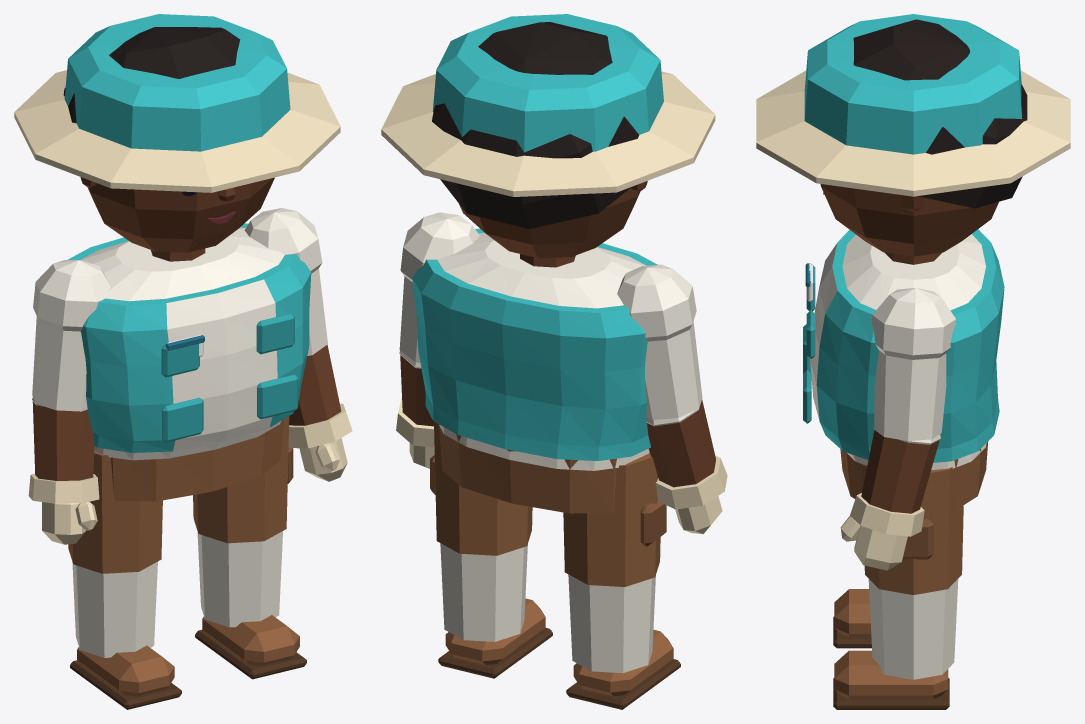
The model's file is auf_pel.glb.
3 views of the same model, side by side, from view 1: azimuth 30°, elevation 25°; view 2: azimuth 150°, elevation 25°; view 3: azimuth 270°, elevation 25° (orthographic). The views are drawn at different scales.
Visible parts, largest first — view 1: kopfbedeckung, weste, arm_r, bein_r, bein_l, torso, kopf, arm_l, becken, taschen, haare, schuh_r (+3 smaller); view 2: kopfbedeckung, weste, bein_r, arm_r, bein_l, haare, torso, becken, arm_l, kopf, schuh_l, schuh_r (+1 smaller); view 3: kopfbedeckung, weste, arm_l, bein_l, haare, kopf, torso, schuh_l, becken, schuh_r, hand_l, taschen.
Part boxes in pixels (box(x1,y1,x2,y2)): kopfbedeckung: box(14, 14, 340, 192); weste: box(67, 223, 311, 452); arm_r: box(28, 260, 110, 503); bein_r: box(68, 450, 162, 657); bein_l: box(193, 416, 293, 627); torso: box(80, 227, 284, 460); kopf: box(80, 177, 274, 252); arm_l: box(244, 208, 352, 448); becken: box(111, 419, 283, 501); taschen: box(161, 313, 298, 442); haare: box(63, 27, 240, 123); schuh_r: box(70, 645, 181, 709); kopfbedeckung: box(381, 14, 715, 196); weste: box(412, 228, 657, 460); bein_r: box(563, 452, 666, 673); arm_r: box(617, 264, 727, 509); bein_l: box(430, 421, 532, 641); haare: box(432, 22, 639, 228); torso: box(437, 232, 649, 470); becken: box(439, 424, 616, 513); arm_l: box(396, 212, 479, 447); kopf: box(459, 181, 647, 258); schuh_l: box(438, 598, 552, 678); schuh_r: box(566, 629, 680, 709); kopfbedeckung: box(756, 14, 1070, 196); weste: box(810, 229, 1004, 462); arm_l: box(850, 288, 955, 536); bein_l: box(864, 467, 963, 679); haare: box(853, 19, 1027, 208); kopf: box(820, 184, 998, 256); torso: box(842, 234, 986, 469); schuh_l: box(833, 650, 949, 709); becken: box(840, 441, 988, 510); schuh_r: box(833, 589, 871, 648); hand_l: box(840, 516, 907, 570); taschen: box(803, 263, 815, 423).
Size of the model in its own units: 0.0124 by 0.0234 by 0.0106.
